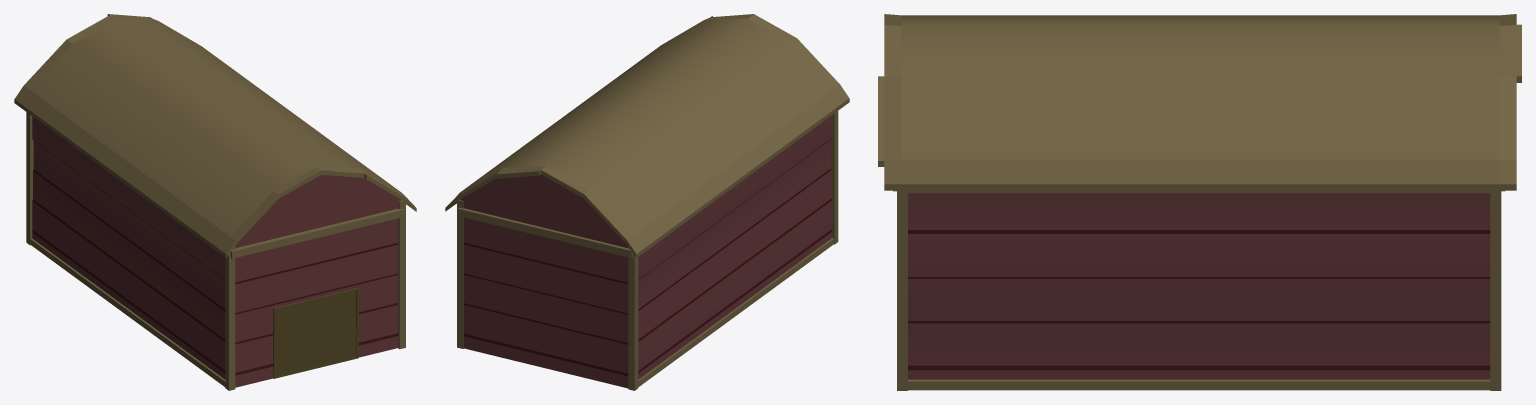
Rendered from Building_02.fbx.
The picture shows the model from 3 angles, left to right: view 1: azimuth 30°, elevation 25°; view 2: azimuth 150°, elevation 25°; view 3: azimuth 270°, elevation 25°; orthographic projection. The views are drawn at different scales.
Visible parts, largest first — view 1: Building_02; view 2: Building_02; view 3: Building_02.
Boxes of the visible parts, x1=… form: Building_02: x1=14, y1=14, x2=416, y2=390; Building_02: x1=445, y1=14, x2=849, y2=390; Building_02: x1=878, y1=14, x2=1521, y2=390.
Size of the model in its own units: 466 by 473 by 915.
